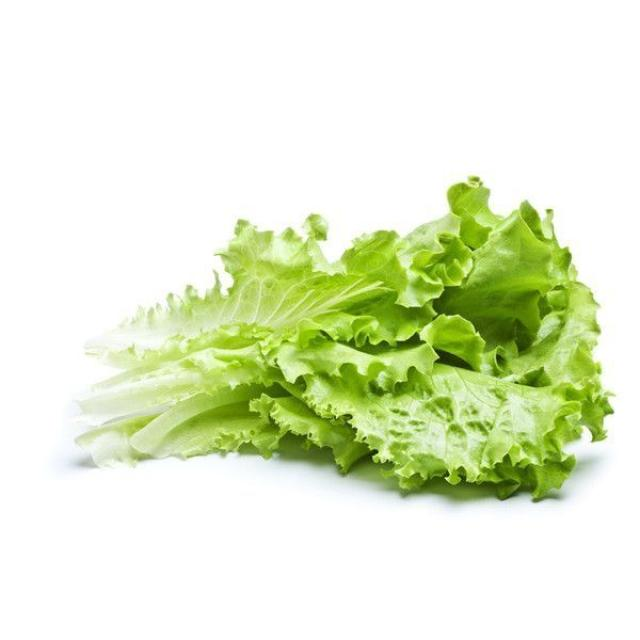lettuce: (78, 179, 611, 497)
